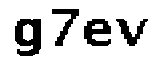7: (49, 4, 80, 49)
e: (83, 17, 113, 51)
g: (12, 18, 47, 59)
v: (116, 14, 151, 48)
